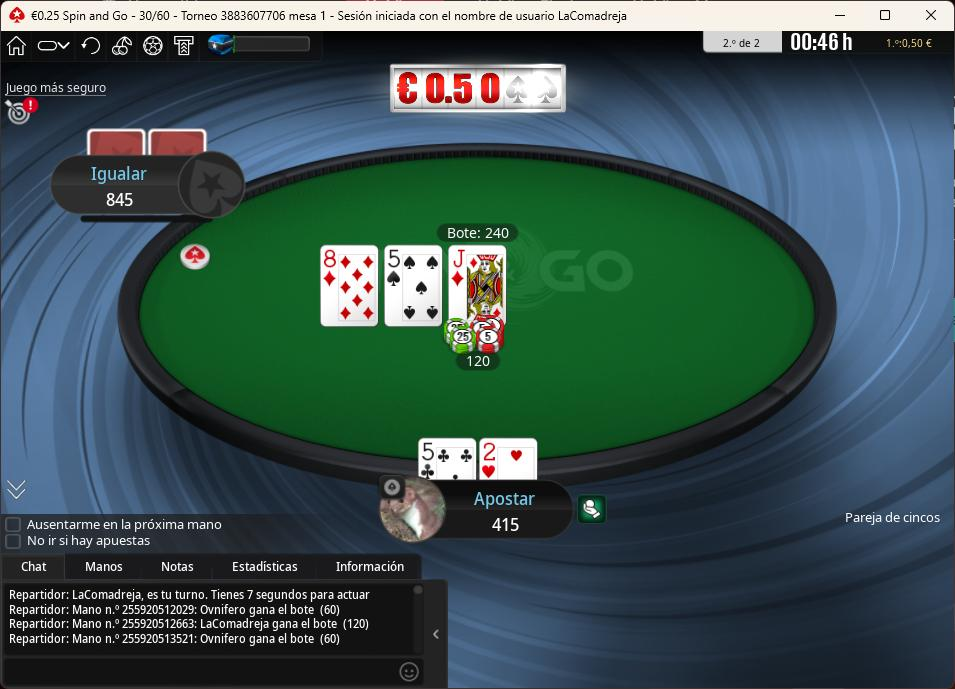Dealer: (180, 242, 214, 273)
HiddenCards: (84, 129, 213, 159)
Player: (49, 155, 244, 221)
PlayerChips: (482, 519, 528, 536), (98, 193, 142, 210)
Pot: (435, 222, 519, 242)
PrincipalCards: (419, 437, 540, 486)
PrincipalCards1: (419, 436, 480, 482)
PrincipalCards2: (479, 437, 542, 482)
PrincipalPlayer: (372, 471, 570, 542)
ShowedCards: (320, 249, 514, 331)
ShowedCards1: (319, 246, 384, 331)
ShowedCards2: (384, 246, 446, 330)
ShowedCards3: (445, 245, 510, 326)
SmallBigBlind: (128, 1, 182, 29)
TablePot: (435, 310, 516, 381)
